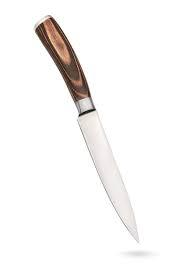Knife: (33, 14, 139, 243)
